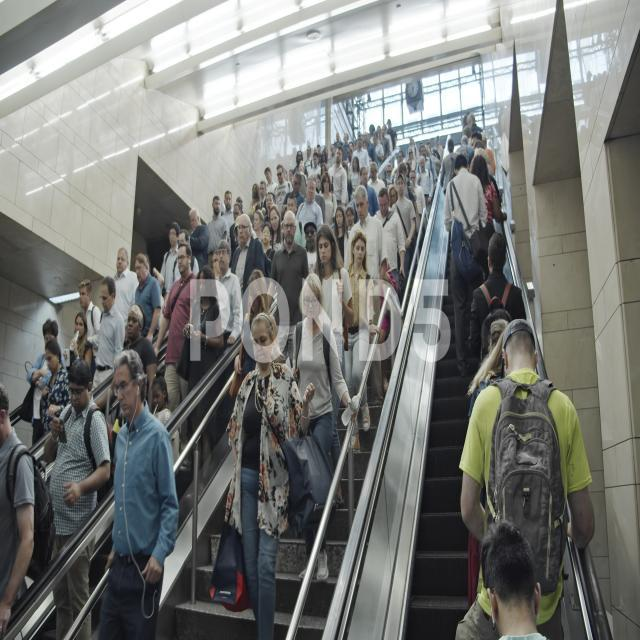Backpacks: (490, 381, 565, 593)
